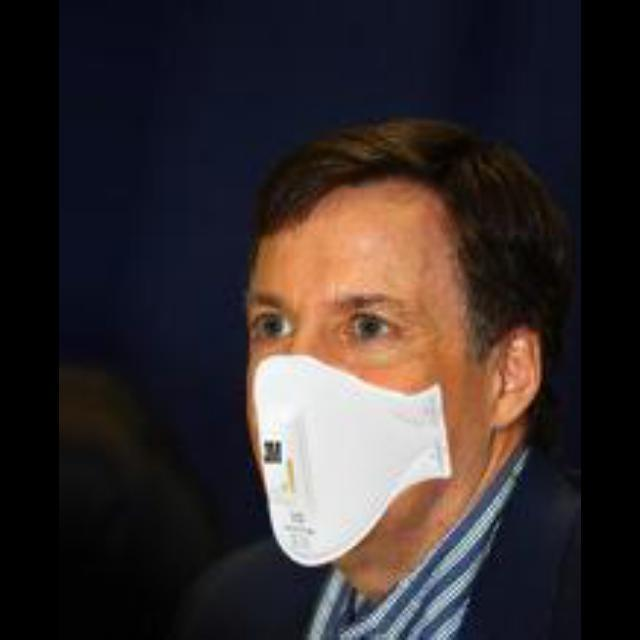suspicion: (208, 126, 550, 566)
